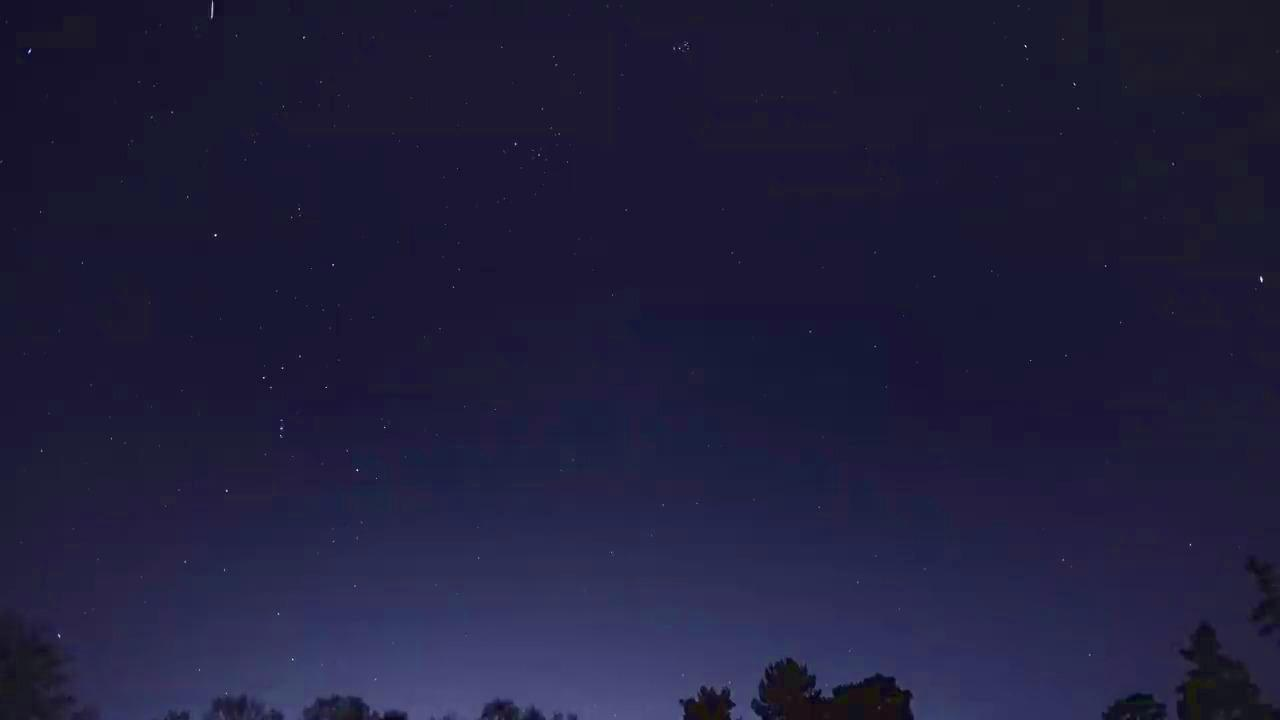meteorite: (174, 0, 245, 24)
